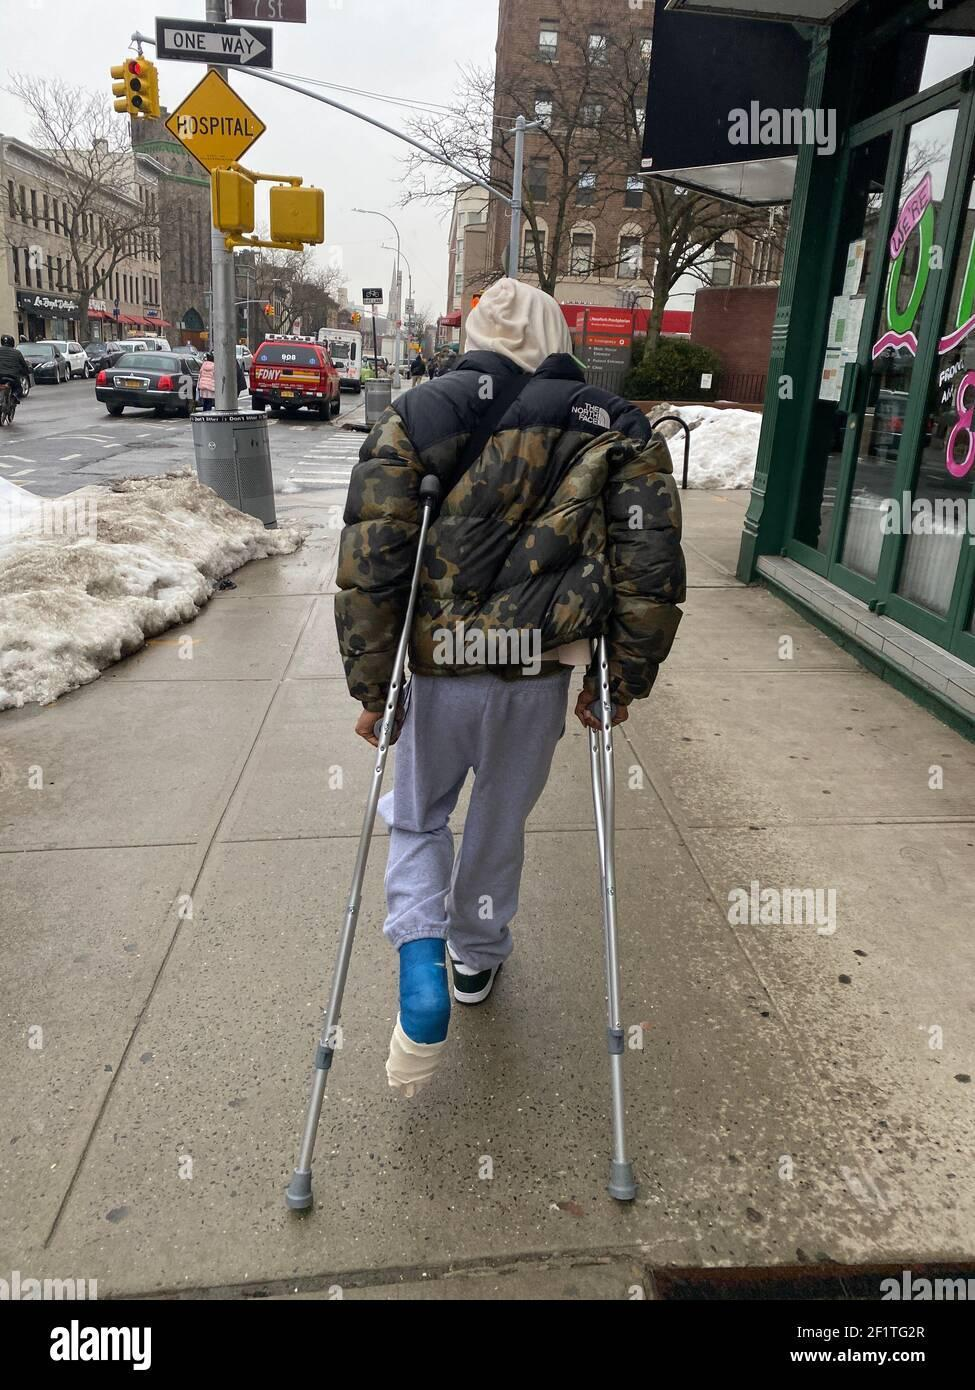crutches: (264, 264, 674, 1244)
